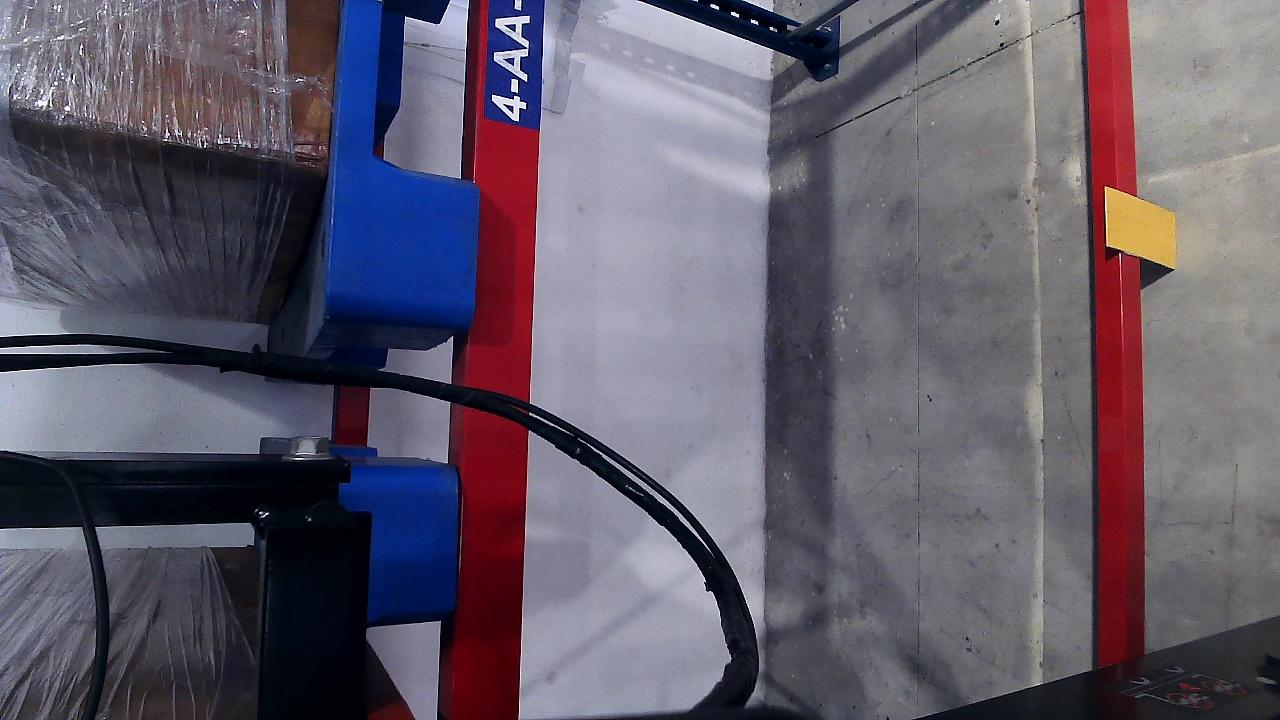h_rack: (476, 0, 545, 715), (1085, 1, 1145, 668)
orange_strip: (1106, 186, 1177, 268)
small_pallet: (327, 1, 482, 312)
